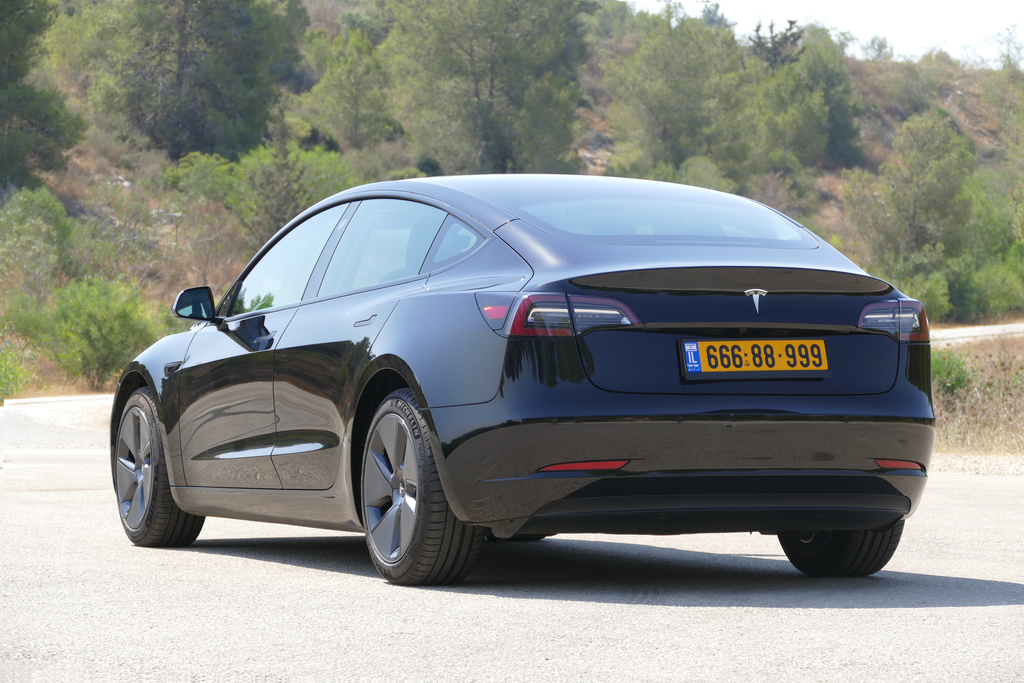licence: (676, 337, 832, 375)
